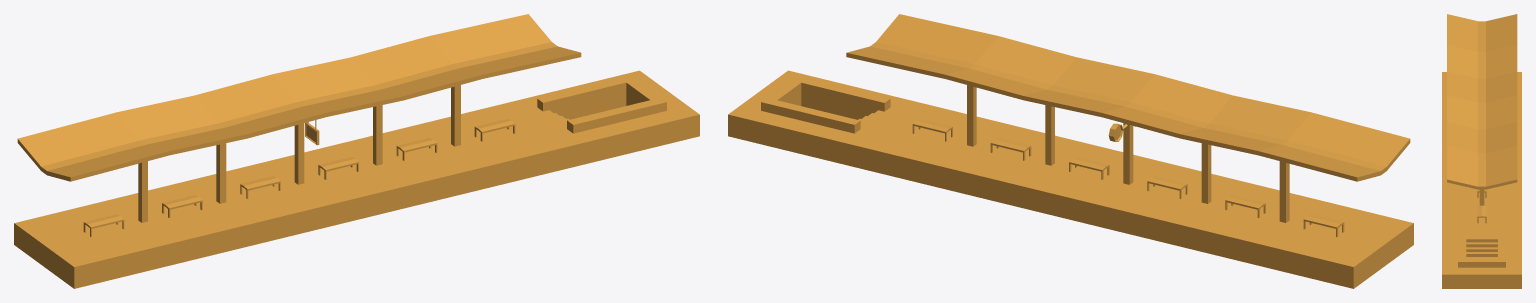
File: train-station-platform-stairs.glb
The picture shows the model from 3 angles, left to right: view 1: azimuth 30°, elevation 25°; view 2: azimuth 150°, elevation 25°; view 3: azimuth 270°, elevation 25°; orthographic projection. The views are drawn at different scales.
Visible parts, largest first — view 1: train-station-platform-stairs; view 2: train-station-platform-stairs; view 3: train-station-platform-stairs.
Boxes of the visible parts, bbox=[...] form: train-station-platform-stairs: bbox=[14, 14, 699, 288]; train-station-platform-stairs: bbox=[728, 14, 1413, 288]; train-station-platform-stairs: bbox=[1442, 14, 1521, 288].
Size of the model in its own units: 30.04 by 5.1 by 5.
